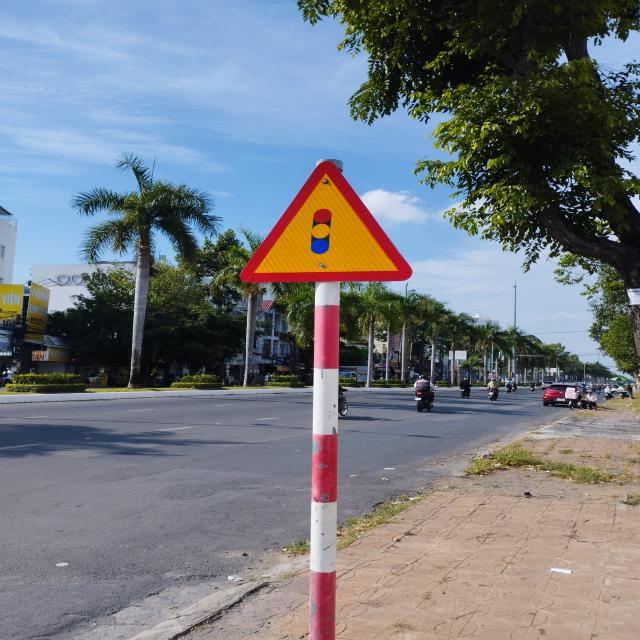Duong_Co_Go_Giam_Toc: (241, 160, 412, 282)
